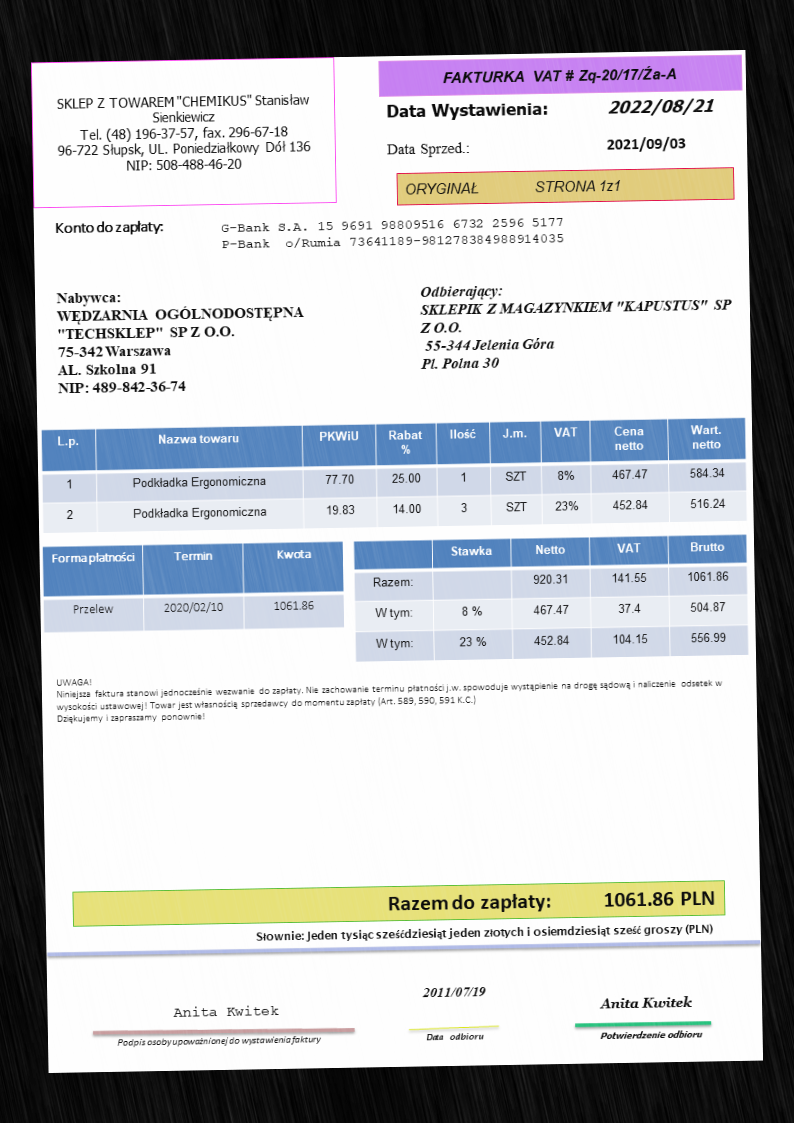Table: (39, 414, 748, 538), (350, 533, 750, 664), (41, 539, 348, 635)
TextBox: (53, 662, 726, 726), (416, 279, 735, 375), (52, 284, 310, 400), (49, 88, 316, 177), (215, 214, 568, 252), (252, 918, 715, 945), (385, 884, 718, 914), (437, 60, 683, 89), (403, 175, 623, 199), (383, 97, 551, 124), (113, 1032, 325, 1049), (607, 93, 717, 117), (50, 217, 166, 239), (382, 138, 474, 159), (171, 1002, 278, 1020), (595, 993, 696, 1011), (598, 1028, 707, 1043), (604, 136, 689, 154), (421, 983, 490, 1000), (424, 1029, 489, 1043)
